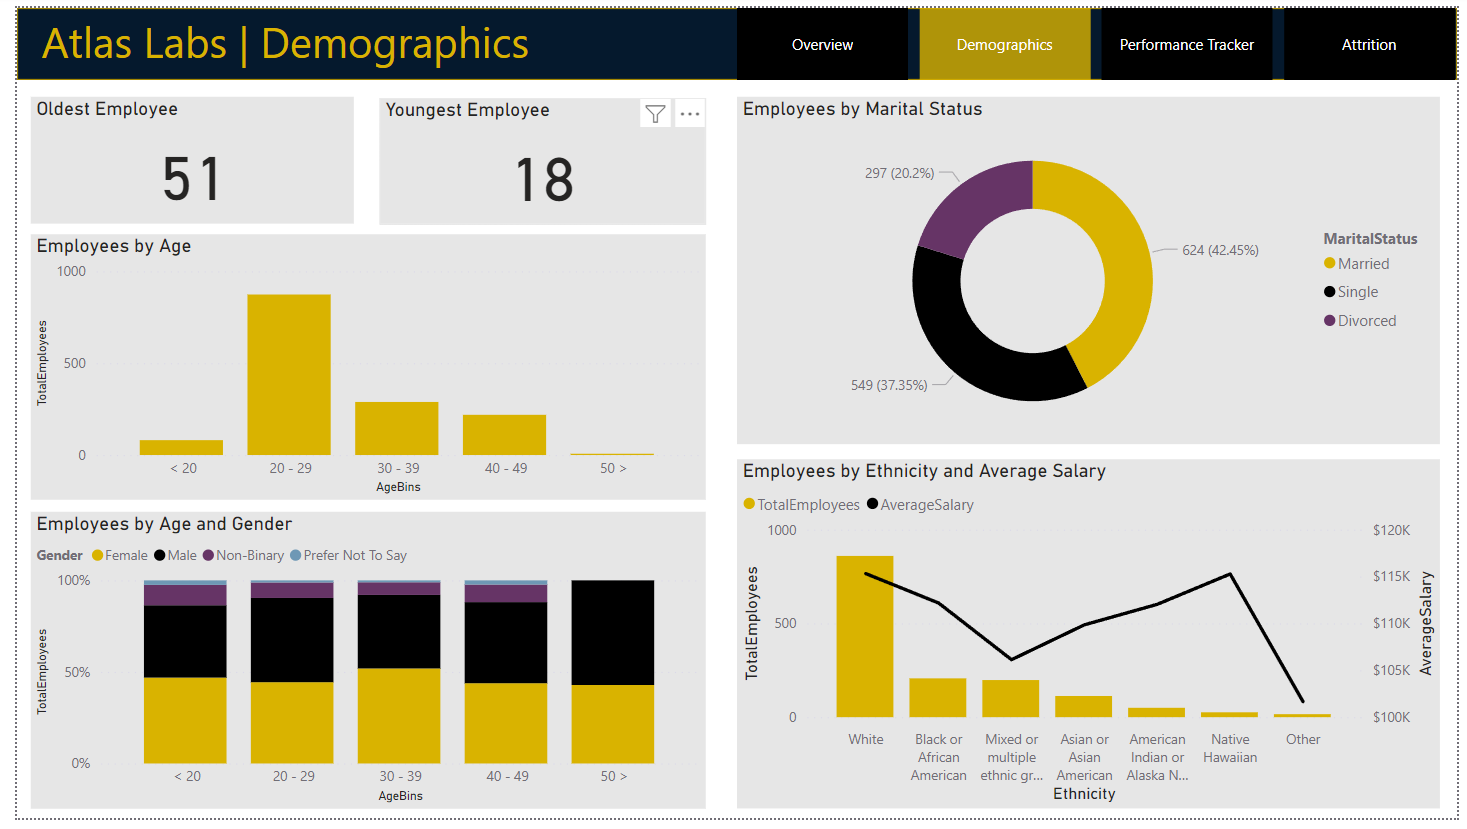

The dashboard page shown, as its layout file describes it:
{"tool":"powerbi","page":{"name":"Demographics","canvas":[1280,720],"ordinal":1},"visuals":[{"type":"card","title":"Oldest Employee","fields":{"Values":["Max(DimEmployee.Age)"]},"box":[12.5,78.8,287.5,112.5],"z":0},{"type":"card","title":"Youngest Employee","fields":{"Values":["Min(DimEmployee.Age)"]},"box":[322.5,80,290,112.5],"z":1000},{"type":"columnChart","title":"Employees by Age","fields":{"Category":["DimEmployee.AgeBins"],"Y":["_Measures.TotalEmployees"]},"box":[12.5,201.2,600,236.2],"z":2000},{"type":"hundredPercentStackedColumnChart","title":"Employees by Age and Gender","fields":{"Category":["DimEmployee.AgeBins"],"Y":["_Measures.TotalEmployees"],"Series":["DimEmployee.Gender"]},"box":[12.5,447.5,600,263.8],"z":3000},{"type":"donutChart","title":"Employees by Marital Status","fields":{"Y":["_Measures.TotalEmployees"],"Category":["DimEmployee.MaritalStatus"]},"box":[640,78.8,625,308.8],"z":4000},{"type":"lineStackedColumnComboChart","title":"Employees by Ethnicity and Average Salary","fields":{"Y":["_Measures.TotalEmployees"],"Category":["DimEmployee.Ethnicity"],"Y2":["_Measures.AverageSalary"]},"box":[640,401.2,625,310],"z":5000},{"type":"shape","box":[0,0,1280,64],"z":6000},{"type":"textbox","box":[16.2,0,508.8,63.8],"z":7000},{"type":"pageNavigator","box":[640,0,640,64],"z":8000}]}

Visuals, with their boxes in screenshot pixels (x1, y1, x2, y2), scaled from the page's 1280x720 canvas onto the 1467x829 screenshot:
"Oldest Employee" card: (14,91,344,220)
"Youngest Employee" card: (370,92,702,222)
"Employees by Age" columnChart: (14,232,702,504)
"Employees by Age and Gender" hundredPercentStackedColumnChart: (14,515,702,819)
"Employees by Marital Status" donutChart: (734,91,1450,446)
"Employees by Ethnicity and Average Salary" lineStackedColumnComboChart: (734,462,1450,819)
shape: (0,0,1466,74)
textbox: (19,0,602,73)
pageNavigator: (734,0,1466,74)
